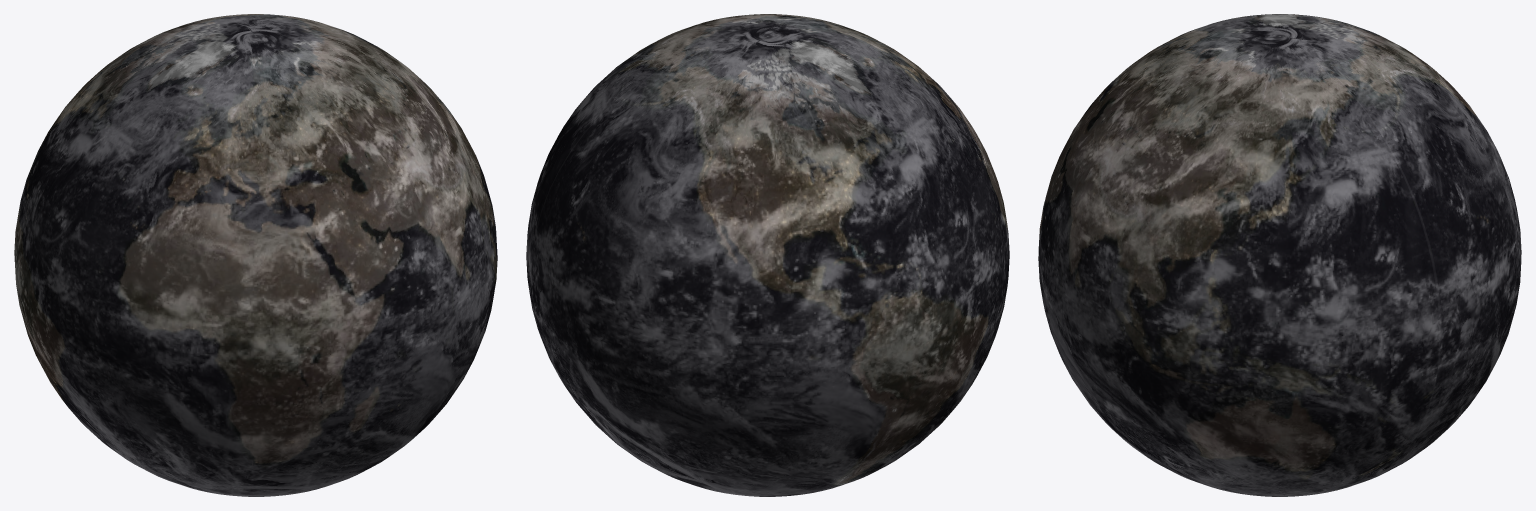
The model's file is earth.glb.
The picture shows the model from 3 angles, left to right: view 1: azimuth 30°, elevation 25°; view 2: azimuth 150°, elevation 25°; view 3: azimuth 270°, elevation 25°; orthographic projection.
Visible parts, largest first — view 1: Earth; view 2: Earth; view 3: Earth.
Part boxes in pixels (<box>): Earth: <box>14,14,497,496</box>; Earth: <box>526,14,1009,496</box>; Earth: <box>1038,14,1521,496</box>.
Bounding box in the file's own units: 2 × 2 × 2.
1 material, 1 textured.
